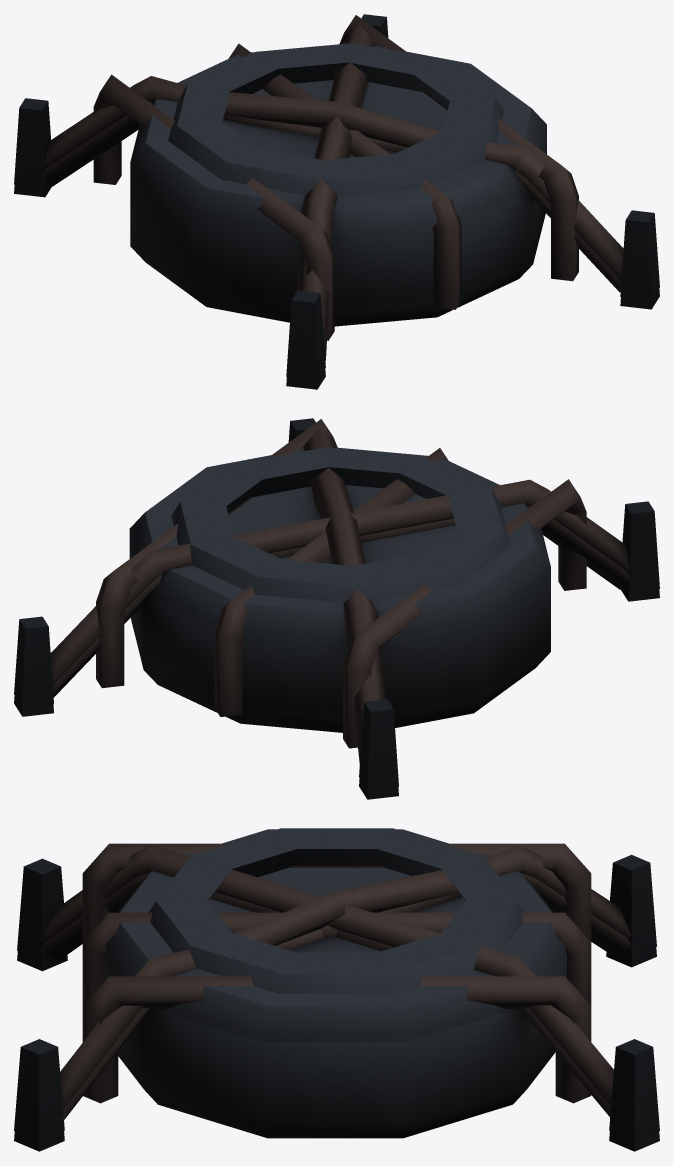
The model's file is Protection_v3.FBX.
The picture shows the model from 3 angles, top to bottom: view 1: azimuth 30°, elevation 25°; view 2: azimuth 150°, elevation 25°; view 3: azimuth 270°, elevation 25°; orthographic projection. The views are drawn at different scales.
Parts seen in each view (by area): view 1: Protection_v3_2, Protection_v3_1, Protection_v3_3, Protection_v3_4; view 2: Protection_v3_2, Protection_v3_3, Protection_v3_1, Protection_v3_4; view 3: Protection_v3_1, Protection_v3_2, Protection_v3_3, Protection_v3_4.
Boxes of the visible parts, x1,y1,x2,y2 form: Protection_v3_2: (14,14,659,380); Protection_v3_1: (14,80,659,389); Protection_v3_3: (168,43,504,196); Protection_v3_4: (93,15,578,340); Protection_v3_2: (14,418,659,790); Protection_v3_3: (171,447,511,602); Protection_v3_1: (14,467,659,799); Protection_v3_4: (96,419,586,748); Protection_v3_1: (14,868,659,1151); Protection_v3_2: (14,829,659,1141); Protection_v3_3: (149,828,524,993); Protection_v3_4: (82,843,591,1103).
Bounding box in the file's own units: 0.7867 × 0.2833 × 1.04.
